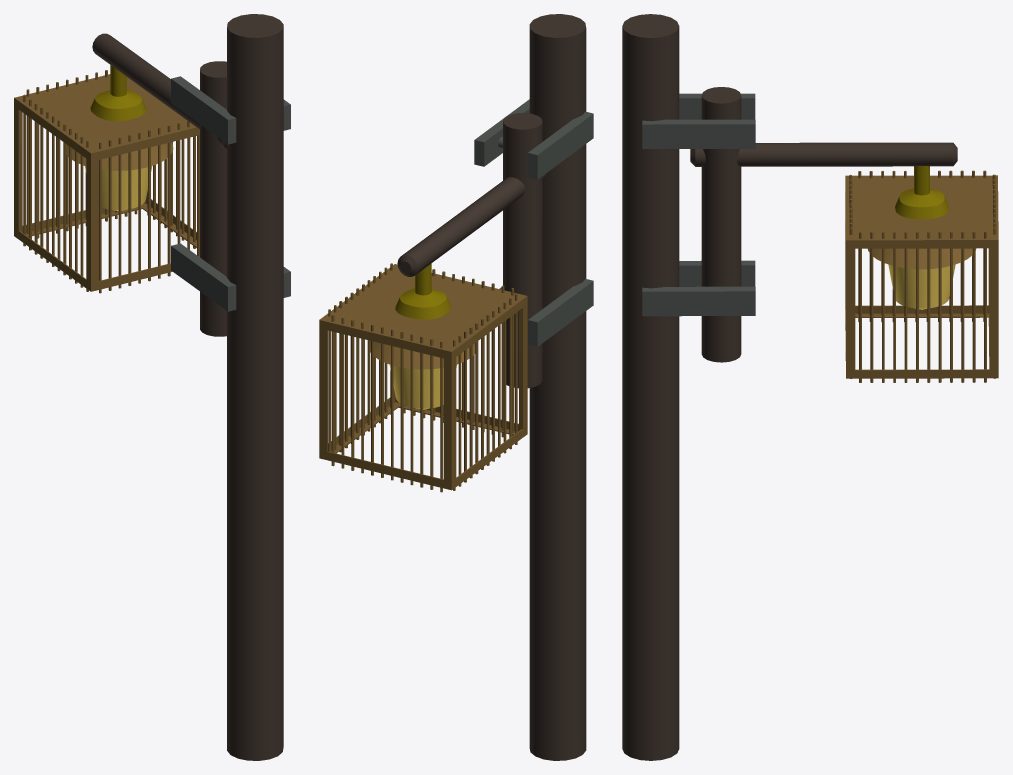
File: LightPost2.fbx
3 views of the same model, side by side, from view 1: azimuth 30°, elevation 25°; view 2: azimuth 150°, elevation 25°; view 3: azimuth 270°, elevation 25° (orthographic).
Visible parts, largest first — view 1: Cube; view 2: Cube; view 3: Cube.
Boxes of the visible parts, x1,y1,x2,y2 form: Cube: (14,14,290,760); Cube: (319,14,593,760); Cube: (622,14,998,760).
Size of the model in its own units: 127 by 658 by 311.
